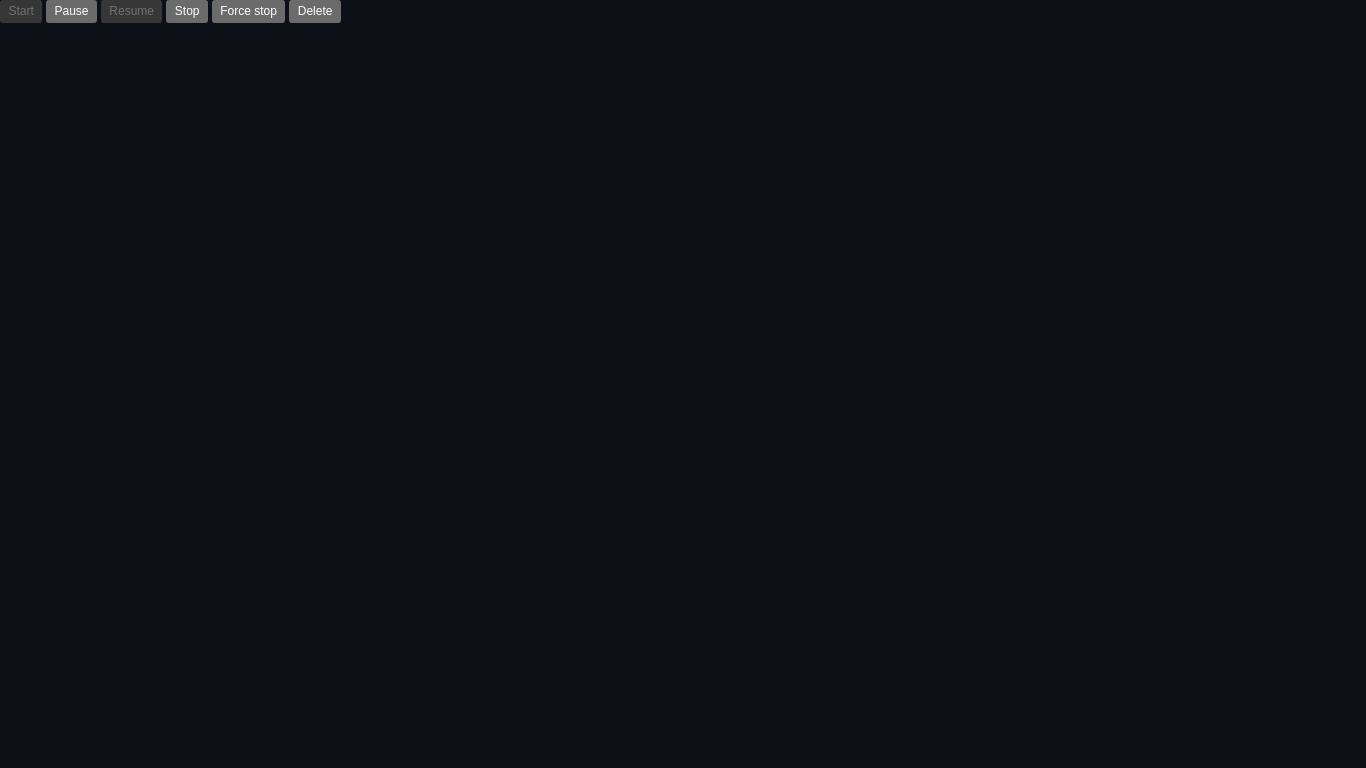
Test: delete from the detail page › cancels without sending anything and closes the prompt
Click the button "Delete" at (315, 11), box [289,0,341,23]
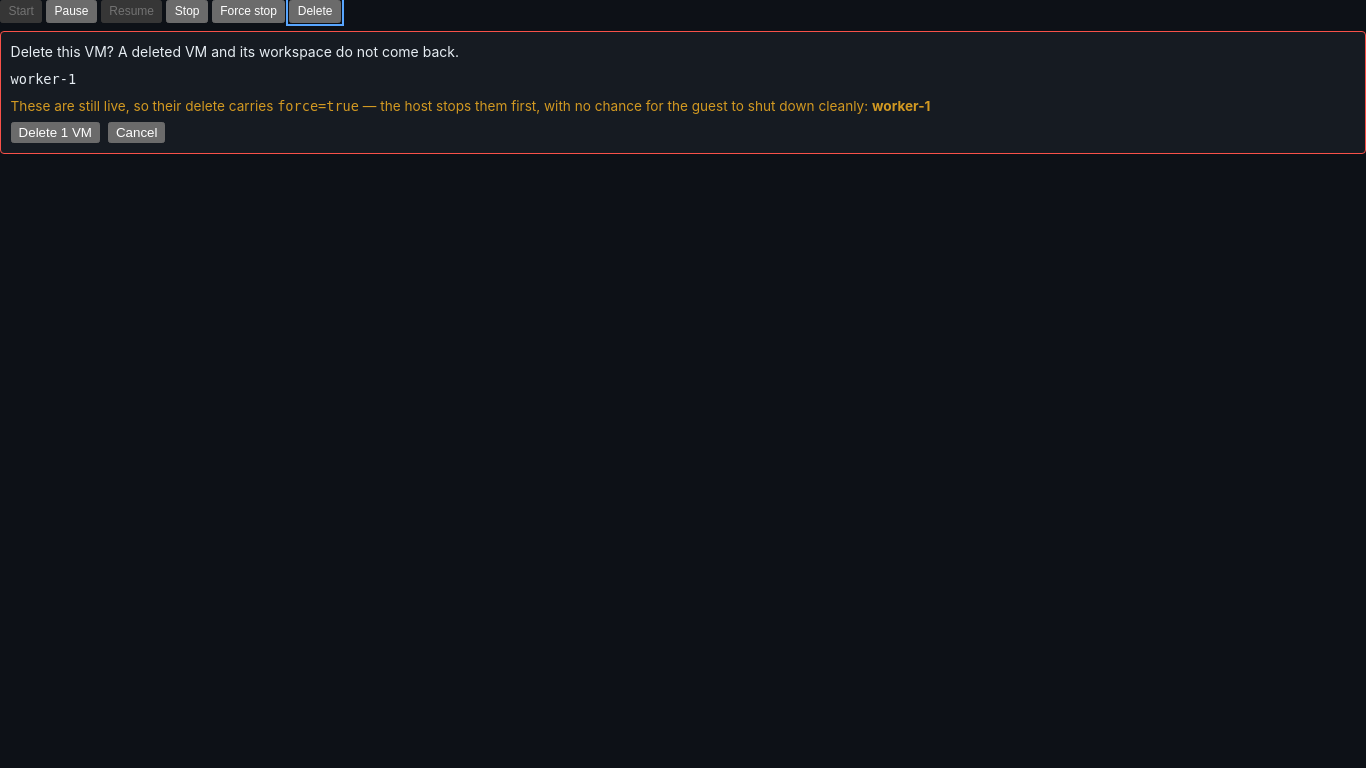
Click the button "Cancel" at (137, 133), box [108,122,166,143]
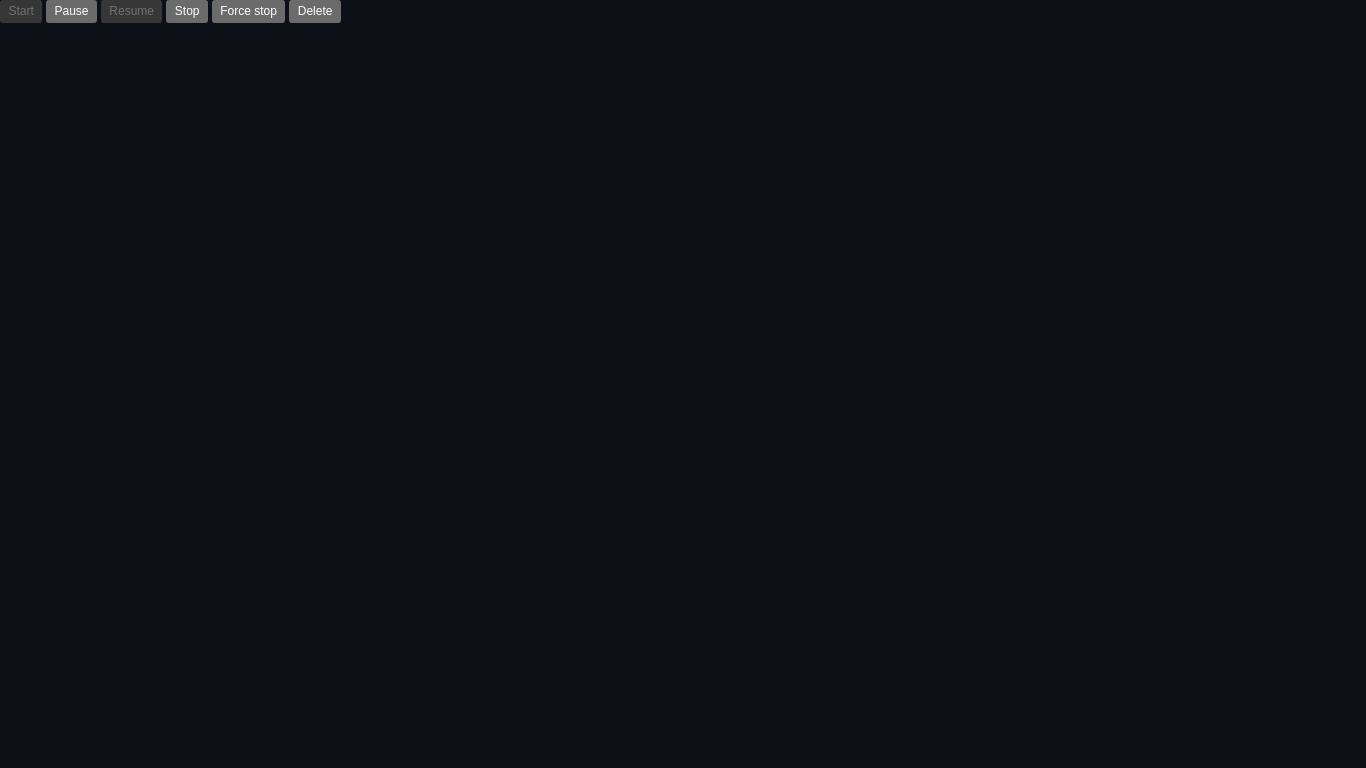
Check: the dialog with test id "delete-confirm" is gone
